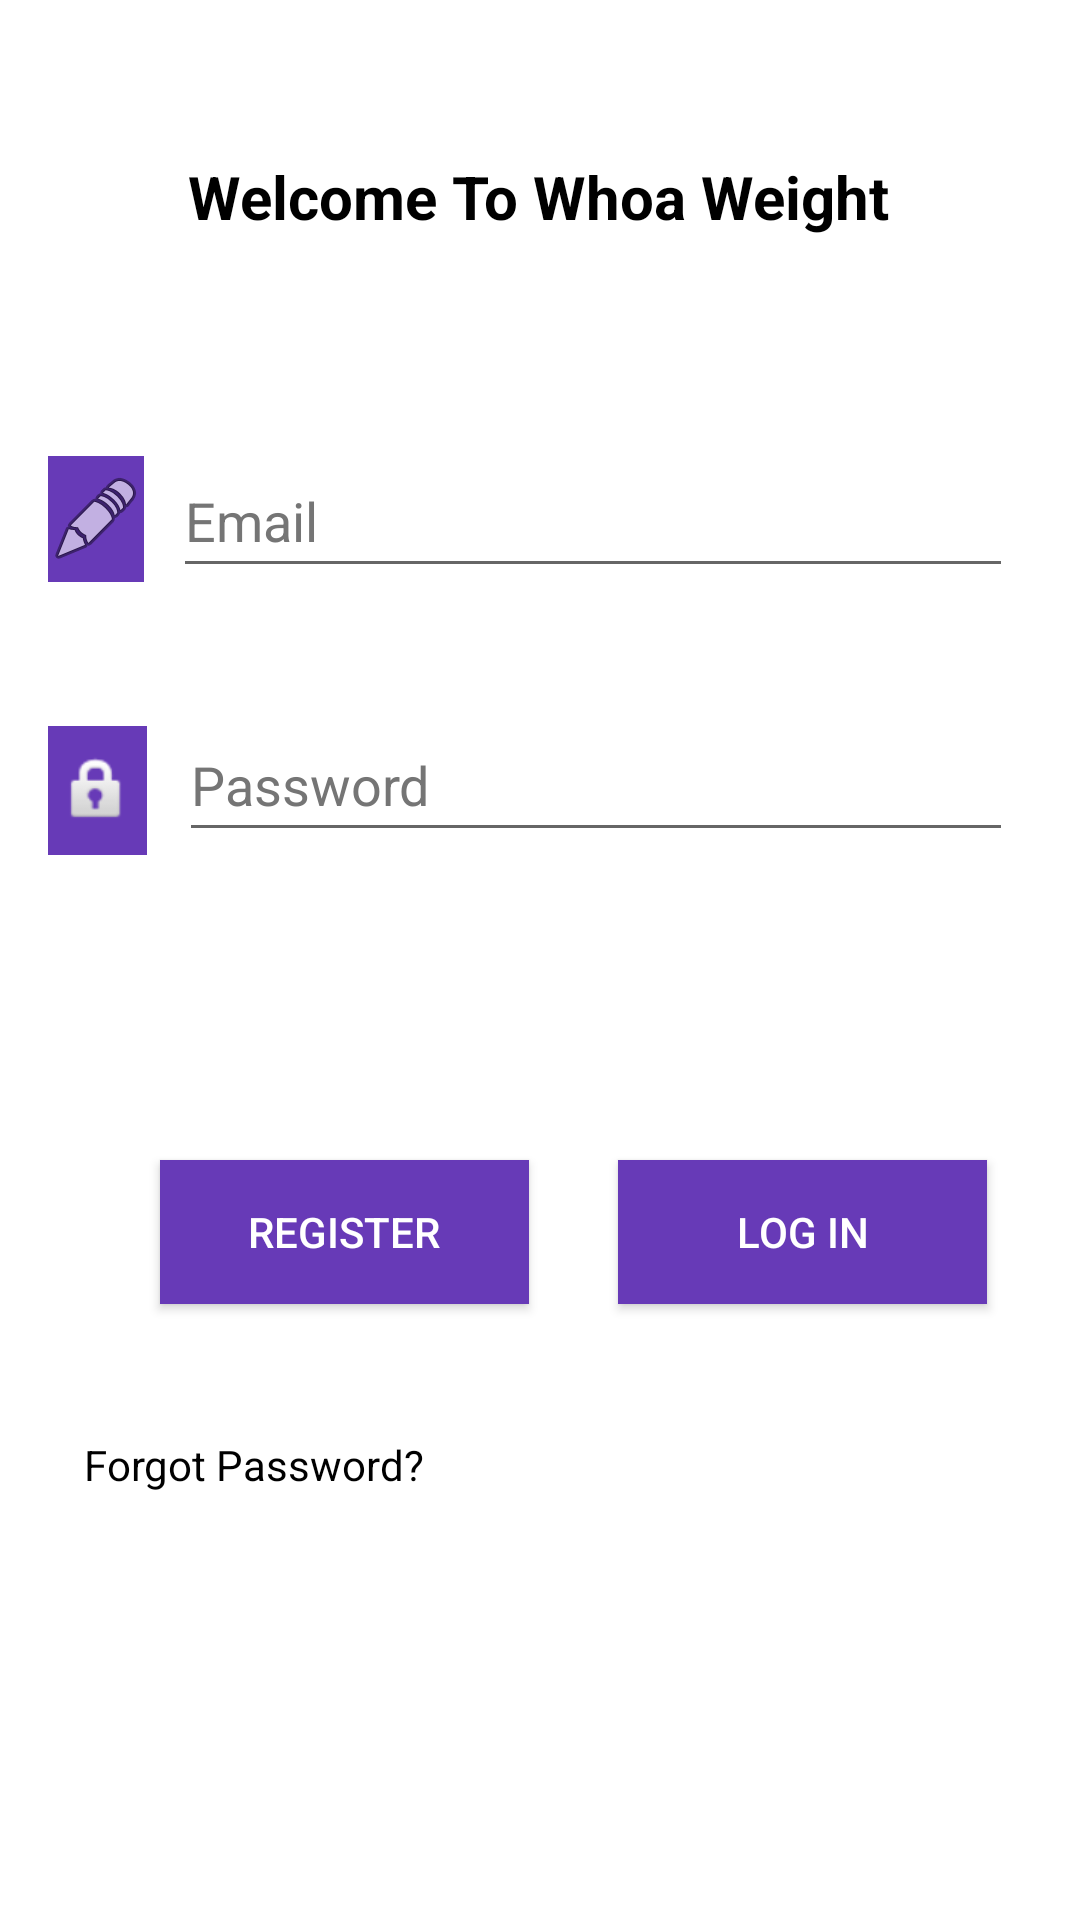

Screen size 1080x1920. Icon name, then its box in pixels as (x1, y1, x2, y2):
Lock: (48, 726, 147, 855)
